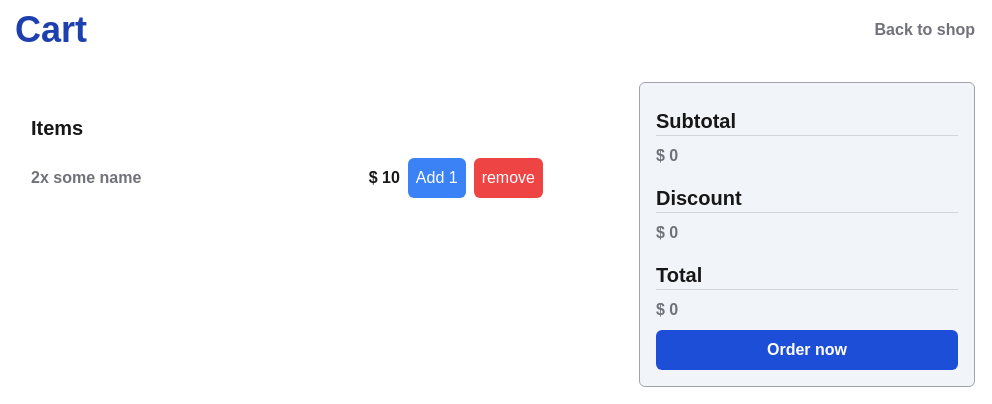
it: <ShoppingCart /> › it updates the total items on cart when removing a item on cart page
This screenshot has width=992, height=404.
Click the button "remove" at x=508, y=178, box [474,158,543,198]
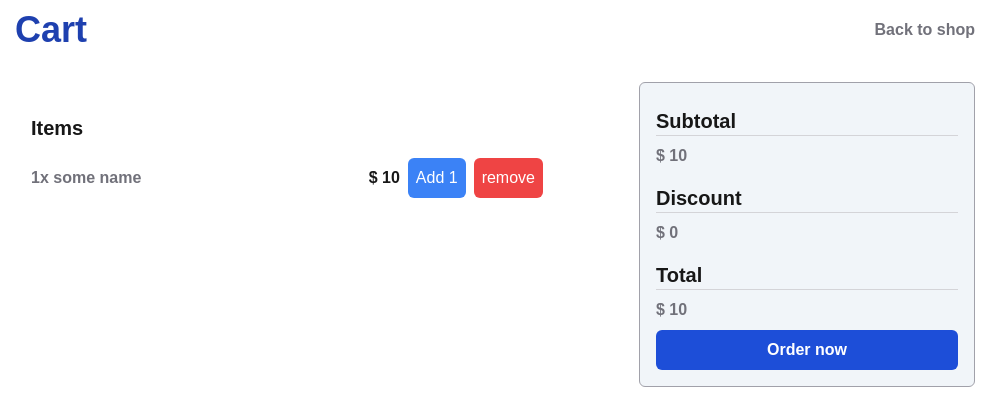
Now the text "1x some name" is shown, box [31,166,141,190]
